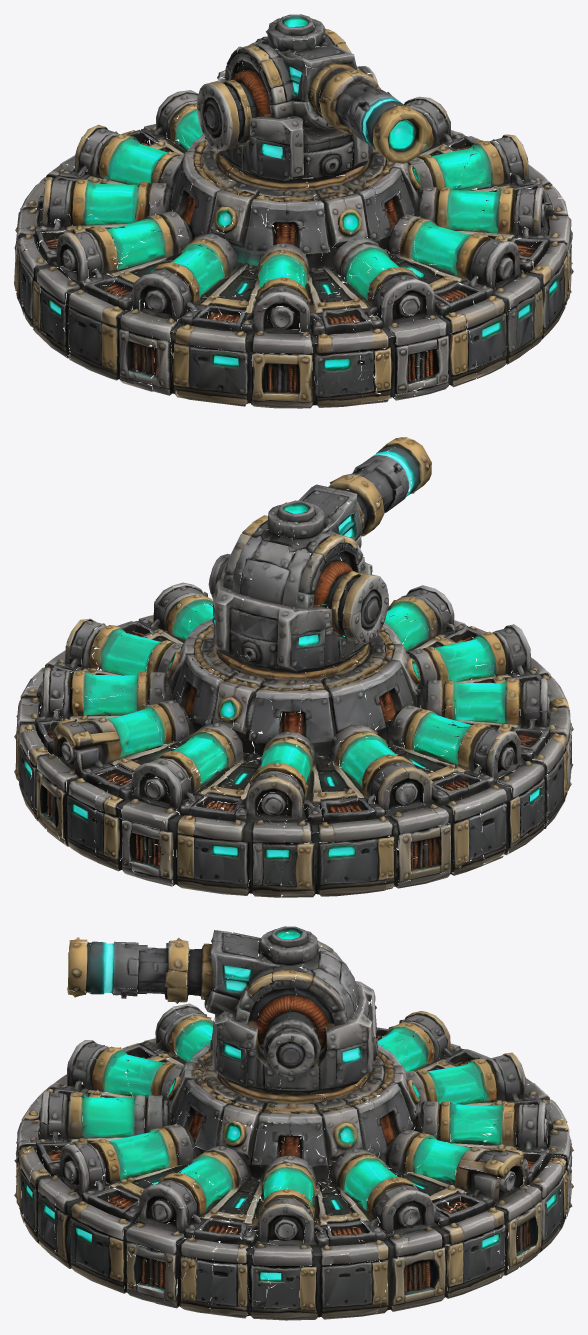
File: warrior-5-tier-2.glb
3 renders of one model, top to bottom at view 1: azimuth 30°, elevation 25°; view 2: azimuth 150°, elevation 25°; view 3: azimuth 270°, elevation 25°, orthographic.
Parts seen in each view (by area): view 1: fixed-platform, moving-assembly; view 2: fixed-platform, moving-assembly; view 3: fixed-platform, moving-assembly.
Boxes of the visible parts, bbox=[...] form: fixed-platform: bbox=[14, 90, 573, 408]; moving-assembly: bbox=[197, 14, 429, 183]; fixed-platform: bbox=[14, 582, 573, 897]; moving-assembly: bbox=[208, 437, 431, 673]; fixed-platform: bbox=[14, 1003, 573, 1320]; moving-assembly: bbox=[67, 926, 377, 1093].
Bounding box in the file's own units: 0.8288 × 0.4484 × 0.8343.
Materials: 2 (2 with a texture image).
